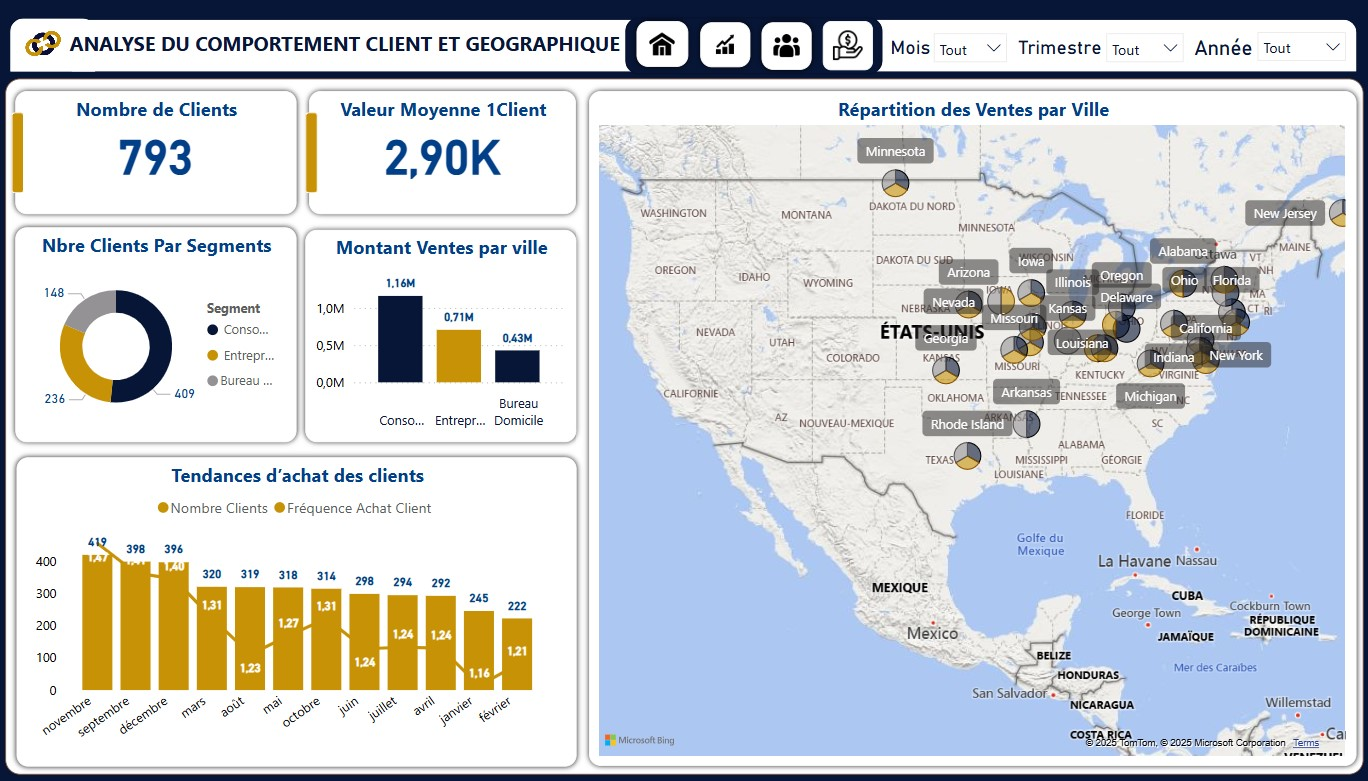

Layout of this report page (visuals, bound fields, positions):
{"tool":"powerbi","page":{"name":"Tableau de bord 2-CC& G","canvas":[1290,740],"ordinal":4},"visuals":[{"type":"shape","box":[155.8,698.8,1110.5,12.8],"z":0},{"type":"shape","box":[6.2,77.5,1278.8,655],"z":1000},{"type":"map","title":"Répartition des Ventes par Ville","fields":{"Category":["Clients_data.État","Clients_data.Ville","Clients_data.Pays"],"Series":["Clients_data.Segment"]},"box":[555.3,89.5,722.4,635.5],"z":2000},{"type":"columnChart","title":"Montant Ventes par ville","fields":{"Y":["Ensemble Mesures.Total Ventes"],"Category":["Clients_data.Segment"]},"box":[288.2,219.7,255.3,200],"z":3000},{"type":"lineStackedColumnComboChart","title":"Tendances d’achat des clients","fields":{"Category":["Calendrier.Mois"],"Y":["Ensemble Mesures.Nombre Clients"],"Y2":["Ensemble Mesures.Fréquence Achat Client"]},"box":[16.2,433.8,527.5,291.2],"z":4000},{"type":"card","title":"Nombre de Clients","fields":{"Values":["Ensemble Mesures.Nombre Clients"]},"box":[15.8,89.5,264.5,115.8],"z":5000},{"type":"shape","box":[68.4,22.4,1209.2,48.7],"z":6000},{"type":"card","title":"Valeur Moyenne 1Client","fields":{"Values":["Ensemble Mesures.Valeur Moyenne Client"]},"box":[292.1,89.5,251.3,115.8],"z":7000},{"type":"shape","box":[589.5,19.7,242.1,53.9],"z":8000},{"type":"image","box":[660.5,25,47.4,42.1],"z":9000},{"type":"image","box":[600,23.7,48.7,43.4],"z":10000},{"type":"image","box":[717.1,25,47.4,44.7],"z":11000},{"type":"shape","box":[11.8,109.2,11.8,76.3],"z":12000},{"type":"shape","box":[288.2,109.2,11.8,76.3],"z":13000},{"type":"donutChart","title":"Nbre Clients Par Segments","fields":{"Category":["Clients_data.Segment"],"Y":["Ensemble Mesures.Nombre Clients"]},"box":[15.8,217.1,264.5,202.6],"z":14000},{"type":"shape","box":[10.5,21.1,80.3,50],"z":15000},{"type":"textbox","title":"ANALYSE DU COMPORTEMENT CLIENT ET GEOGRAPHIQUE","box":[42.1,31.6,565.8,34.2],"z":16000},{"type":"slicer","title":"Produits","fields":{"Values":["Calendrier.Année"]},"box":[869.7,25,89.5,40.8],"z":17000},{"type":"textbox","title":"Mois","box":[834.2,38.2,73.7,23.7],"z":18000},{"type":"slicer","title":"Produits","fields":{"Values":["Calendrier.Trimestre"]},"box":[1031.6,25,93.4,42.1],"z":19000},{"type":"textbox","title":"Trimestre","box":[953.9,38.2,96.1,26.3],"z":20000},{"type":"textbox","title":"Année","box":[1119.7,38.2,73.7,23.7],"z":21000},{"type":"slicer","title":"Produits","fields":{"Values":["Calendrier.Année"]},"box":[1173.7,23.7,103.9,42.1],"z":22000},{"type":"image","box":[3.9,15.8,81.6,61.8],"z":23000},{"type":"image","box":[775,23.7,47.4,46.1],"z":24000}]}

Visuals, with their boxes in screenshot pixels (x1, y1, x2, y2), scaled from the page's 1290x740 canvas onto the 1368x781 screenshot:
shape: 165,738,1343,751
shape: 7,82,1363,773
"Répartition des Ventes par Ville" map: 589,94,1355,765
"Montant Ventes par ville" columnChart: 306,232,576,443
"Tendances d’achat des clients" lineStackedColumnComboChart: 17,458,577,765
"Nombre de Clients" card: 17,94,297,217
shape: 73,24,1355,75
"Valeur Moyenne 1Client" card: 310,94,576,217
shape: 625,21,882,78
image: 700,26,751,71
image: 636,25,688,71
image: 760,26,811,74
shape: 13,115,25,196
shape: 306,115,318,196
"Nbre Clients Par Segments" donutChart: 17,229,297,443
shape: 11,22,96,75
"ANALYSE DU COMPORTEMENT CLIENT ET GEOGRAPHIQUE" textbox: 45,33,645,69
"Produits" slicer: 922,26,1017,69
"Mois" textbox: 885,40,963,65
"Produits" slicer: 1094,26,1193,71
"Trimestre" textbox: 1012,40,1113,68
"Année" textbox: 1187,40,1266,65
"Produits" slicer: 1245,25,1355,69
image: 4,17,91,82
image: 822,25,872,74
